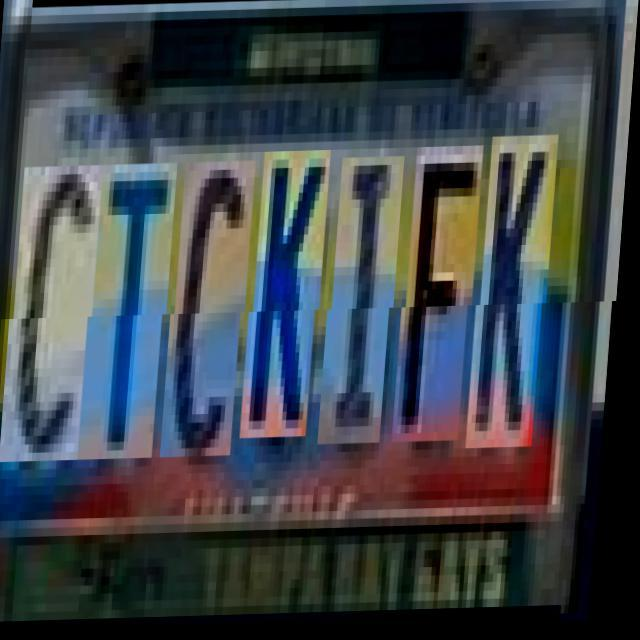C: (10, 166, 106, 462), (172, 162, 258, 458)
F: (403, 148, 486, 444)
I: (328, 158, 408, 446)
K: (477, 138, 561, 452), (250, 152, 334, 440)
T: (88, 164, 180, 460)
